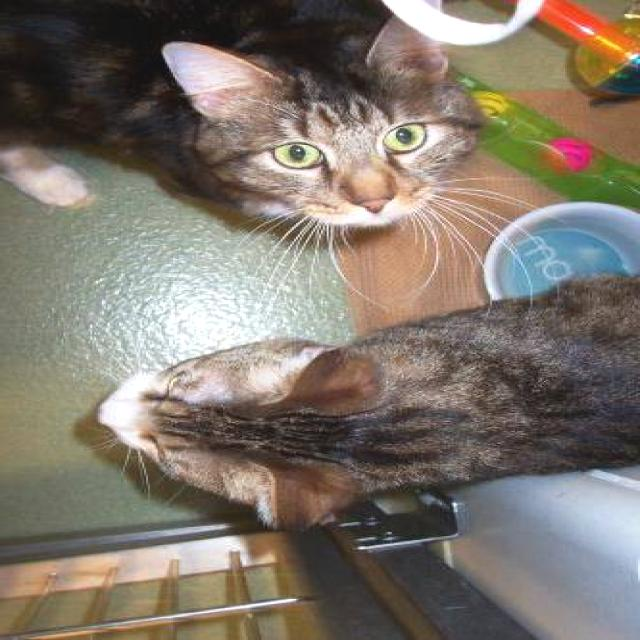Kucing: (44, 255, 640, 561), (0, 0, 598, 240)
